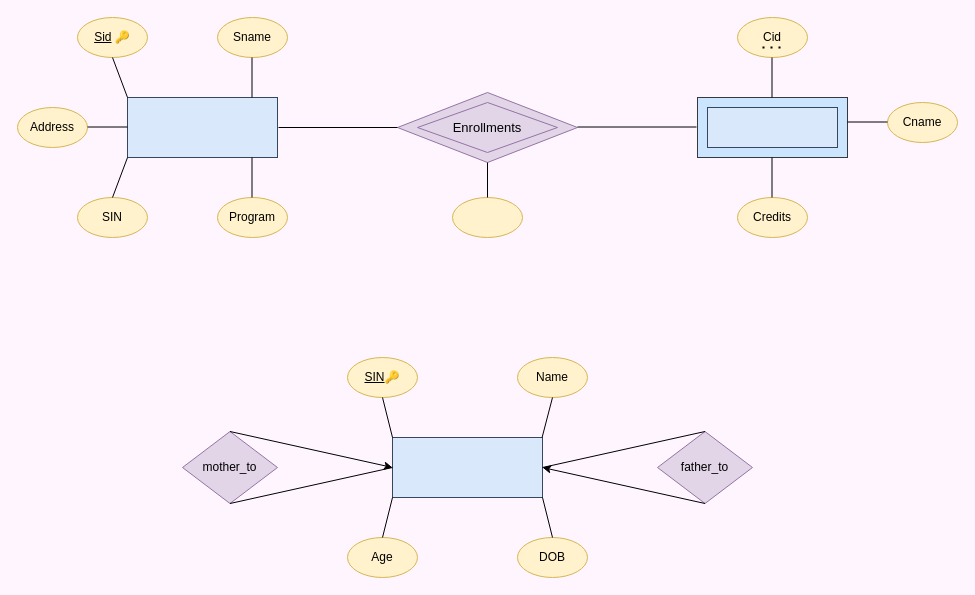
The diagram is 975 pixels wide and 595 high, and some of its shapes have lost their labels. Here are the shapes that lost their labels. From the top down, the centre of each, then its label:
At (x=202, y=127): "Students".
At (x=772, y=127): "Courses".
At (x=487, y=217): "Grade".
At (x=467, y=467): "Person".
